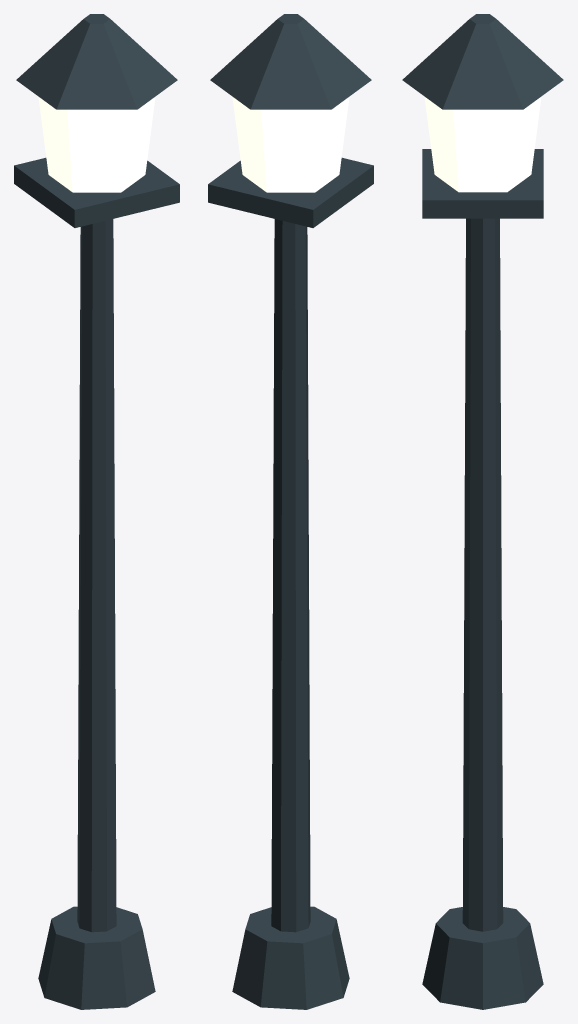
File: lamp.glb
The picture shows the model from 3 angles, left to right: view 1: azimuth 30°, elevation 25°; view 2: azimuth 150°, elevation 25°; view 3: azimuth 270°, elevation 25°; orthographic projection.
Visible parts, largest first — view 1: lamp; view 2: lamp; view 3: lamp.
Boxes of the visible parts, x1=… form: lamp: x1=14, y1=14, x2=179, y2=1009; lamp: x1=208, y1=14, x2=373, y2=1009; lamp: x1=402, y1=14, x2=563, y2=1009.
Bounding box in the file's own units: 0.4157 × 3.16 × 0.48.
